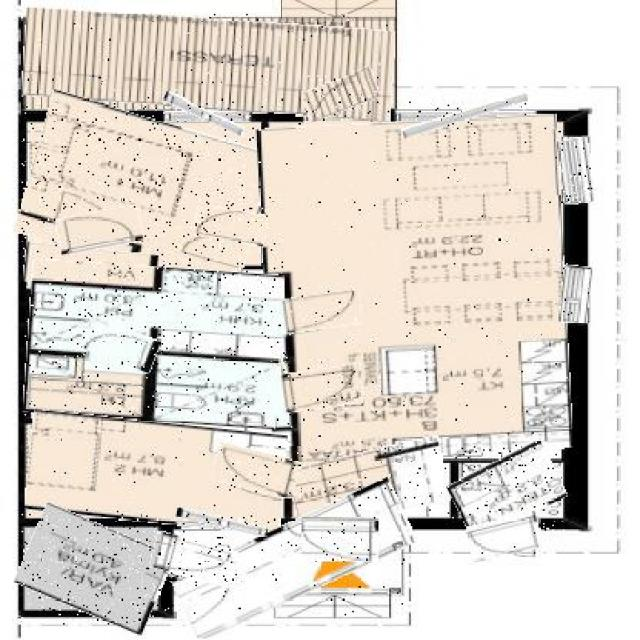door: (216, 446, 302, 494), (152, 537, 238, 583), (277, 366, 363, 411), (58, 210, 142, 252), (84, 323, 158, 369), (302, 517, 378, 561), (303, 74, 380, 117), (278, 292, 360, 332), (468, 516, 542, 558), (194, 208, 268, 245)
window: (400, 102, 529, 129), (560, 138, 594, 204), (163, 101, 246, 128), (560, 266, 591, 323), (176, 514, 270, 532)
zone: (260, 119, 569, 458), (23, 106, 269, 280), (25, 263, 283, 426), (23, 15, 395, 117), (26, 415, 286, 528), (172, 502, 416, 618), (19, 514, 170, 624), (291, 444, 449, 524), (165, 346, 292, 428), (450, 448, 564, 532), (25, 245, 157, 289)
